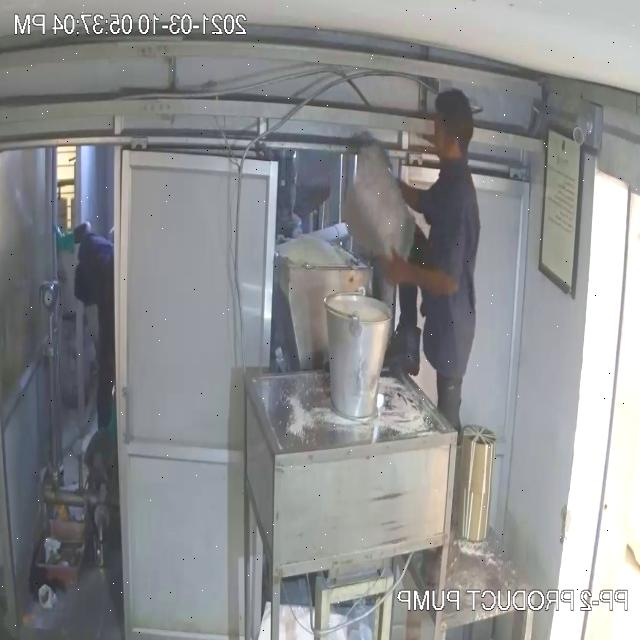No Glove: (385, 252, 458, 296)
No Hardhat: (435, 87, 473, 154)
No Overall Suit: (419, 158, 480, 378)
